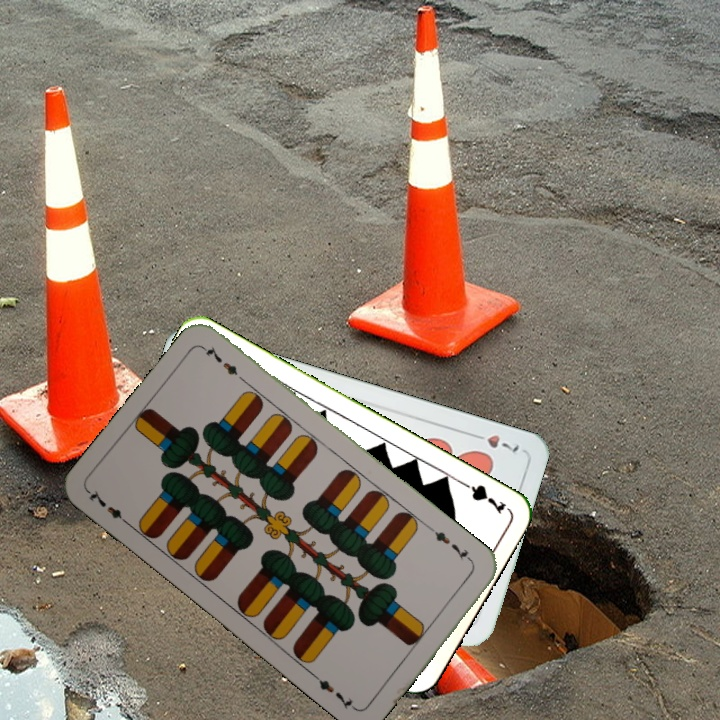E7: (427, 524, 476, 567), (84, 487, 134, 529)
G7: (454, 476, 509, 517)
H7: (466, 428, 522, 455)
